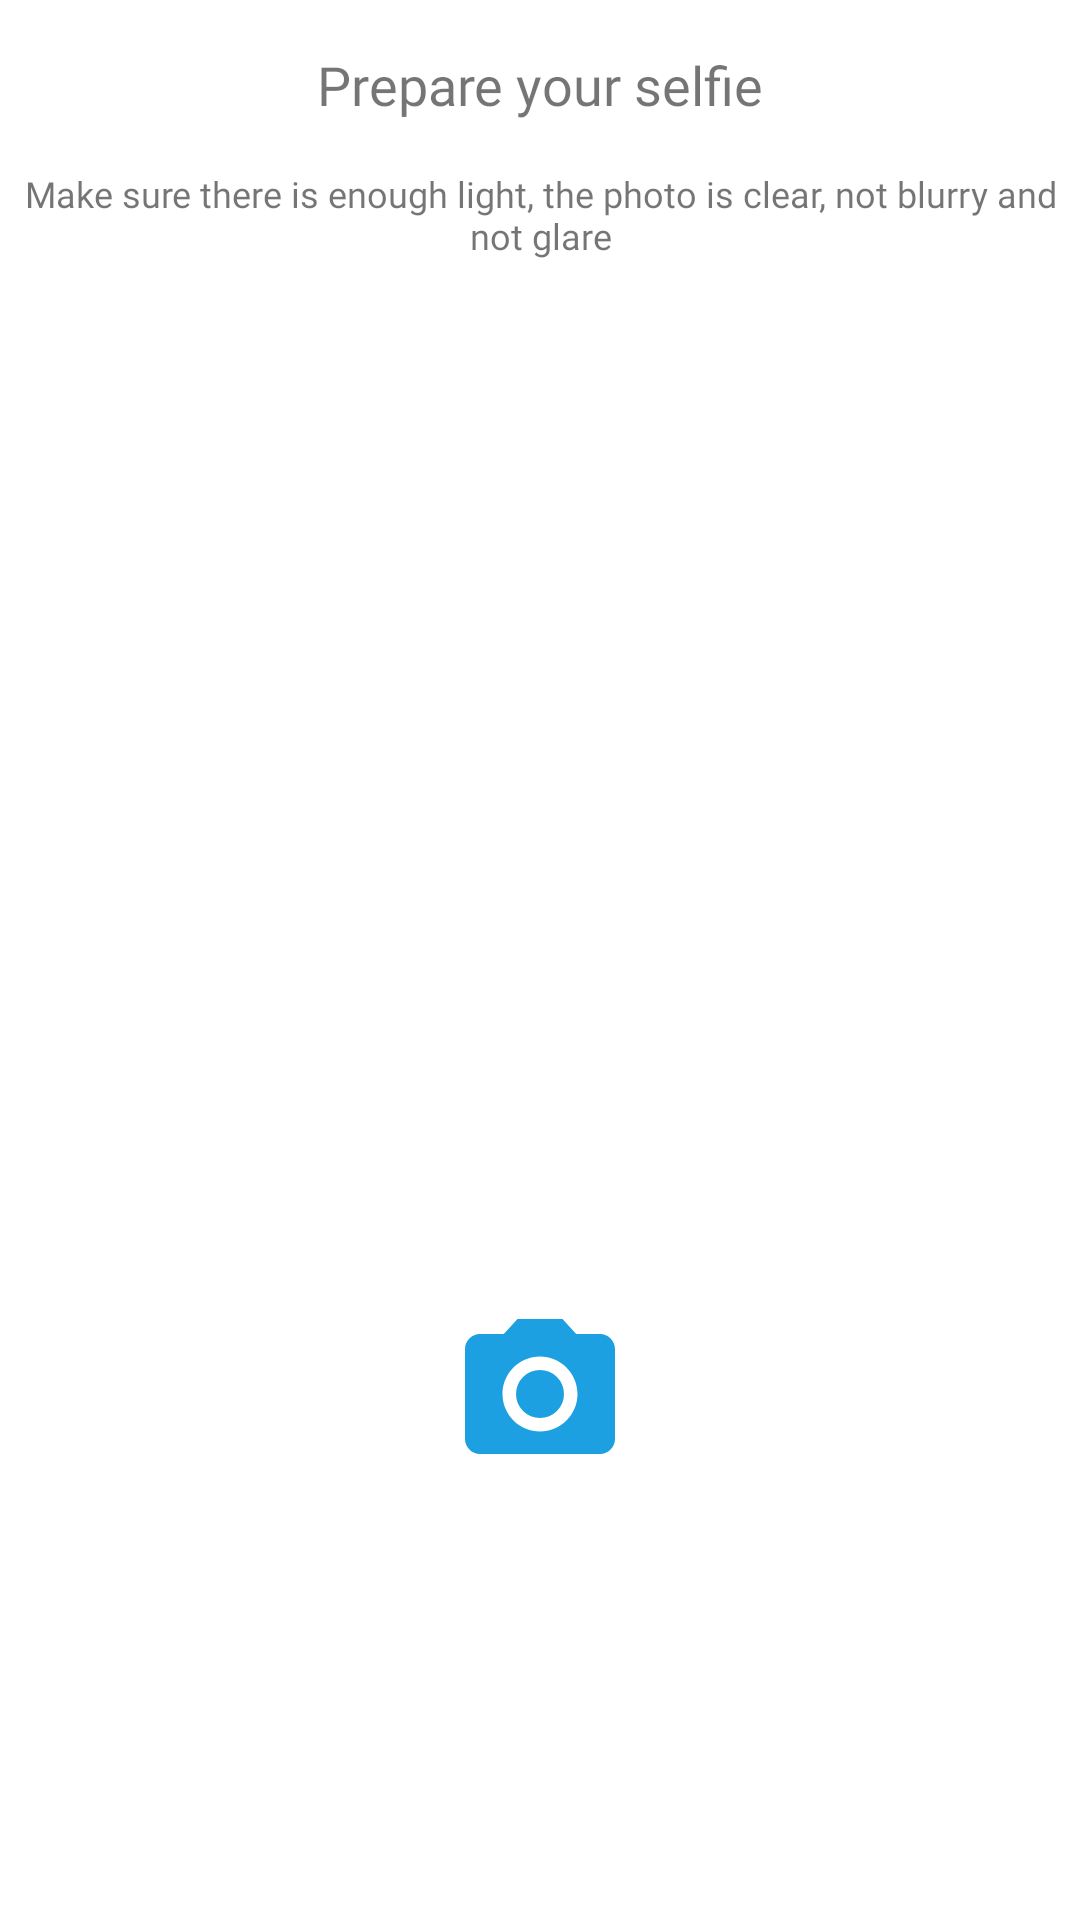

Icon bounding boxes for this 1080x1920 phone screenshot, format (x1, y1, x2, y2):
camera: (465, 1319, 615, 1454)
